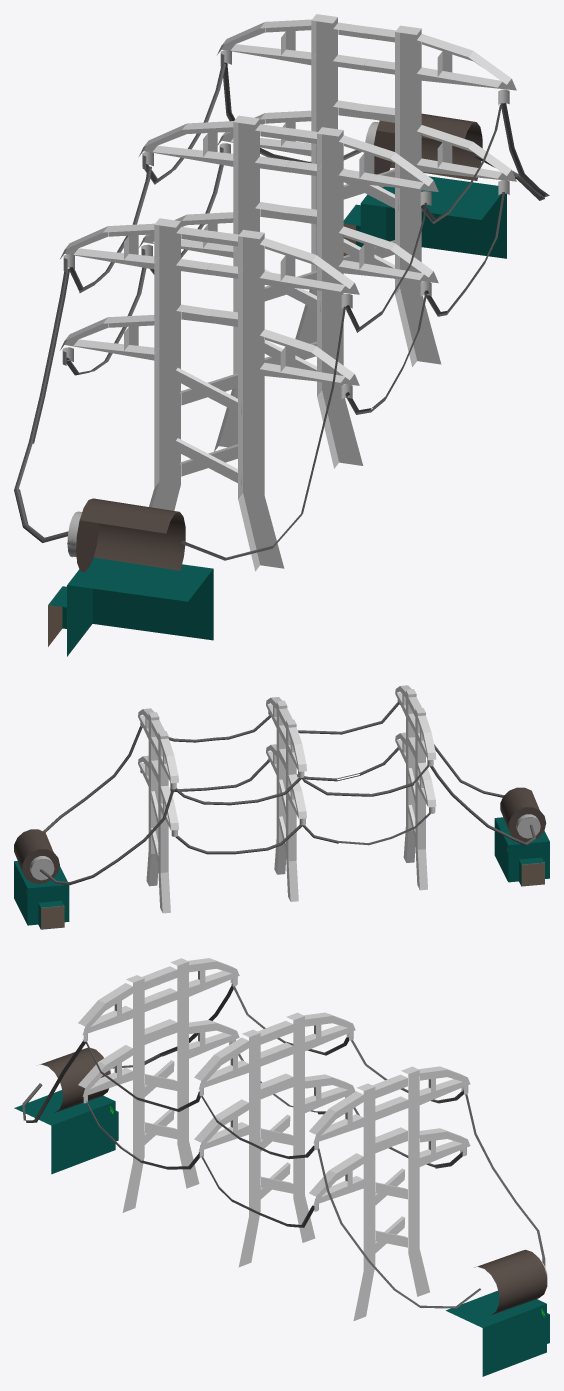
File: EnergyStorage.fbx
The picture shows the model from 3 angles, top to bottom: view 1: azimuth 30°, elevation 25°; view 2: azimuth 150°, elevation 25°; view 3: azimuth 270°, elevation 25°; orthographic projection. The views are drawn at different scales.
Visible parts, largest first — view 1: Box024, Box023, Box022, Box020, Box019, Cylinder005, Cylinder004, Line004, Line015, Line010; view 2: Box022, Box023, Box024, Box019, Box020, Cylinder004, Cylinder005, Line009, Line004, Line010, Line008, Line006 (+6 smaller); view 3: Box022, Box024, Box023, Box019, Box020, Cylinder004, Cylinder005, Line010, Line015, Line009.
Boxes of the visible parts, x1,y1,x2,y2 form: Box024: (60,218,359,571); Box023: (139,115,438,468); Box022: (217,14,516,366); Box020: (48,557,213,656); Box019: (343,176,506,258); Cylinder005: (67,498,185,572); Cylinder004: (365,113,482,180); Line004: (14,268,69,542); Line015: (181,306,345,560); Line010: (475,103,549,200); Box022: (138,708,178,913); Box023: (266,697,306,901); Box024: (395,685,436,890); Box019: (14,861,69,929); Box020: (494,817,549,886); Cylinder004: (14,829,59,883); Cylinder005: (500,787,546,841); Line009: (39,789,174,884); Line004: (430,766,535,845); Line010: (43,726,142,832); Line008: (175,825,302,854); Line006: (302,765,428,796); Box022: (309,1066,470,1321); Box024: (78,958,239,1212); Box023: (194,1012,355,1267); Box019: (446,1290,549,1376); Box020: (14,1090,118,1174); Cylinder004: (474,1249,547,1314); Cylinder005: (39,1047,110,1112); Line010: (317,1148,480,1308); Line015: (22,1040,85,1122); Line009: (465,1094,545,1266).
Size of the model in its own units: 69.96 by 30.3 by 64.41.
